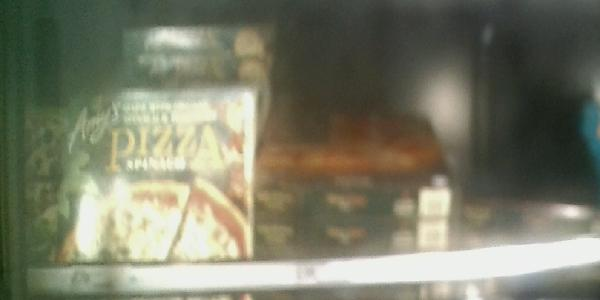pizza1: (20, 91, 253, 294)
pizza2: (254, 168, 458, 215), (255, 212, 454, 251), (125, 21, 271, 56), (119, 57, 271, 86)
